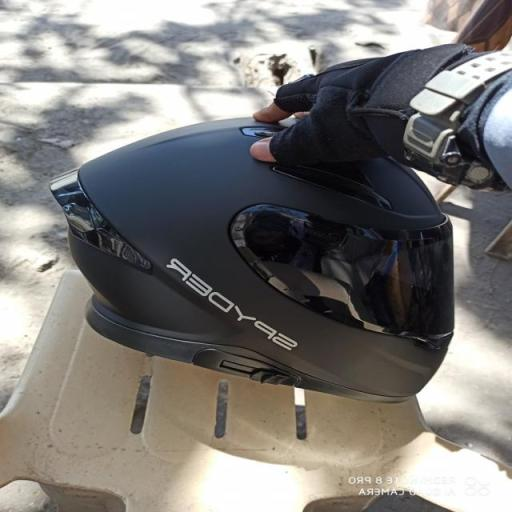Helmet: (38, 82, 492, 458)
